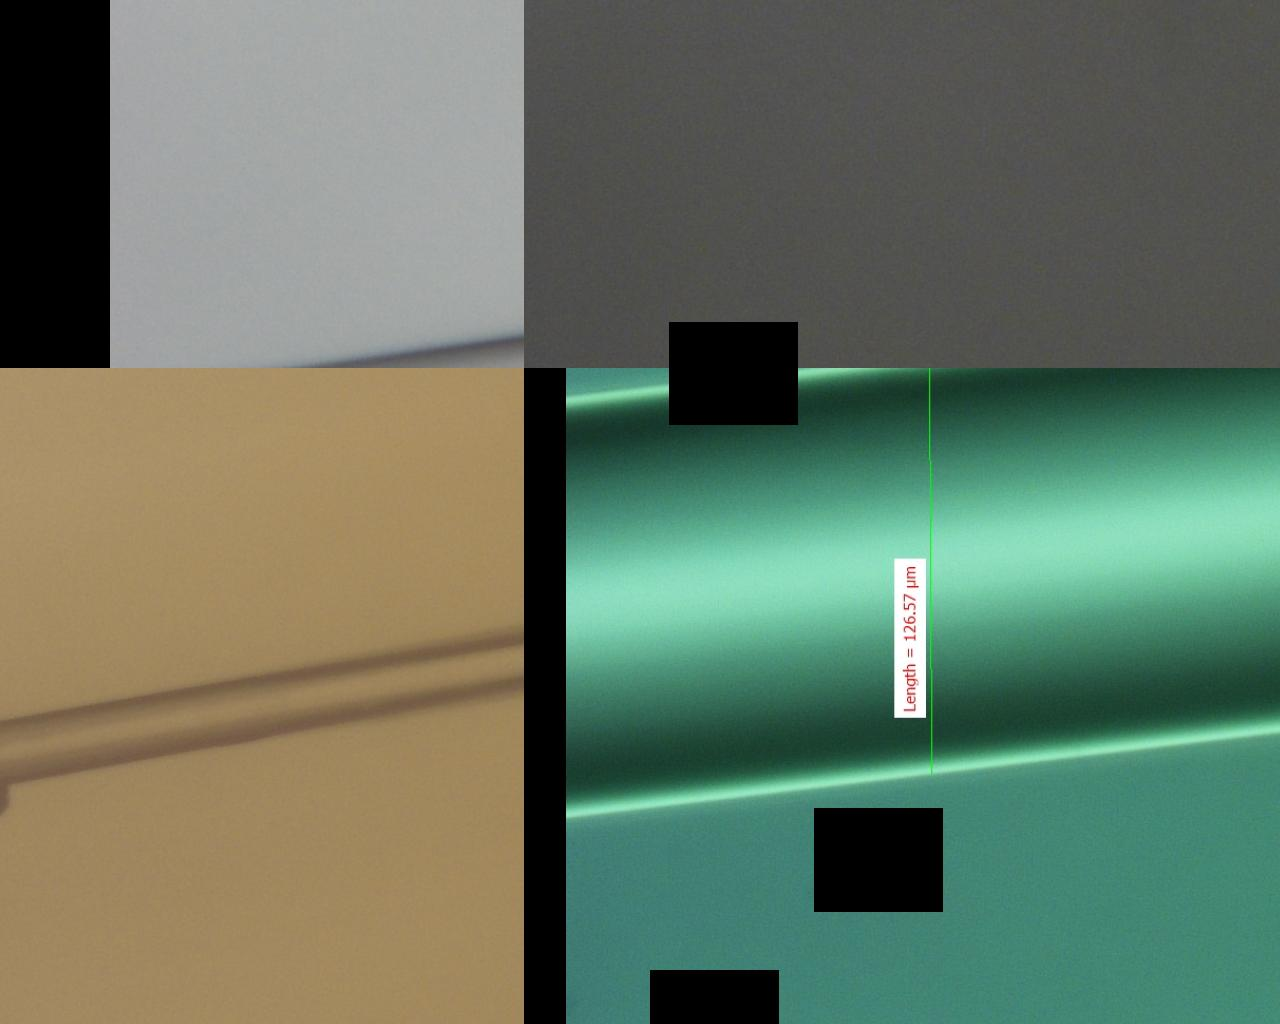fiber: (422, 326, 1280, 502), (422, 655, 804, 1024), (0, 471, 422, 573), (0, 773, 422, 788)
